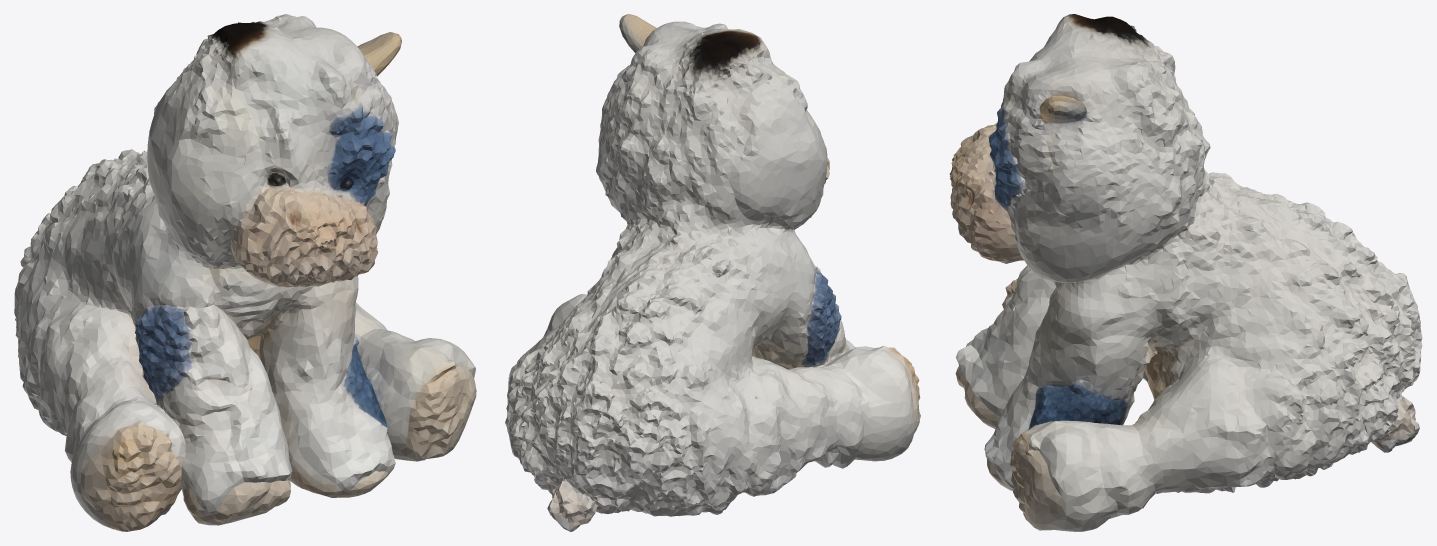
File: stew.glb
3 views of the same model, side by side, from view 1: azimuth 30°, elevation 25°; view 2: azimuth 150°, elevation 25°; view 3: azimuth 270°, elevation 25° (orthographic). The views are drawn at different scales.
Visible parts, largest first — view 1: world; view 2: world; view 3: world.
Part boxes in pixels (x1,y1,x2,y2): world: (14,14,476,531); world: (505,14,920,531); world: (949,14,1422,531).
Bounding box in the file's own units: 0.9325 × 0.9914 × 0.9884.
Materials: 1 (1 with a texture image).
